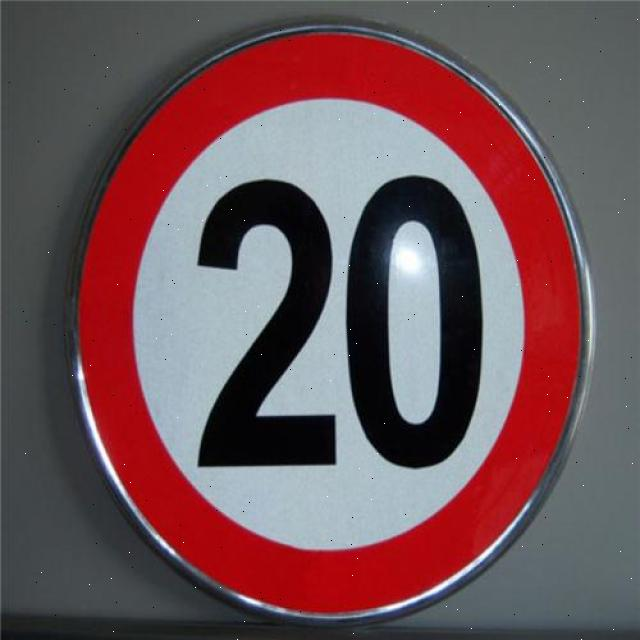speed limit 20: (61, 24, 597, 620)
